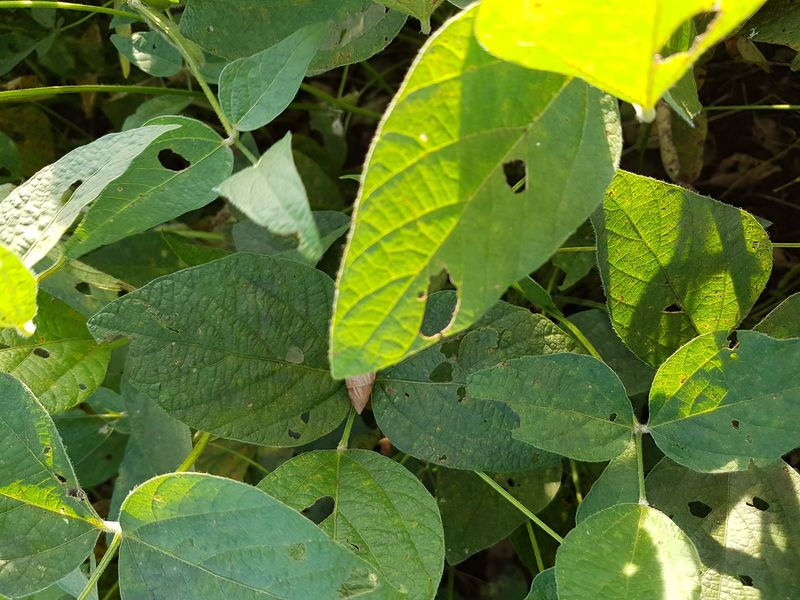Gastropoda: (332, 359, 390, 423)
